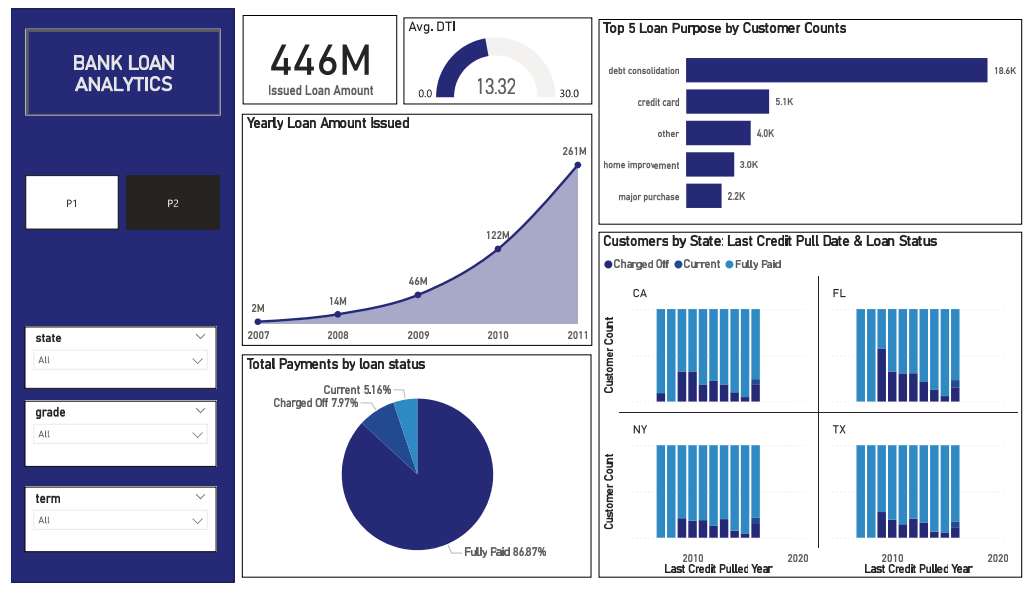

The page's visual inventory and layout, read from the dashboard file:
{"tool":"powerbi","page":{"name":"Report 2","canvas":[1280,720],"ordinal":1},"visuals":[{"type":"shape","box":[0,0,280.4,720],"z":0},{"type":"gauge","title":"Avg. DTI","fields":{"Y":["Avg(master.dti)"],"MinValue":["Min(master.dti)"],"MaxValue":["Max(master.dti)"]},"box":[493.2,10.7,236.5,109.3],"z":1000},{"type":"hundredPercentStackedColumnChart","title":"Customers by State: Last Credit Pull Date & Loan Status","fields":{"Category":["master.last credit pull date.Variation.Date Hierarchy.Year"],"Rows":["master.state"],"Series":["master.loan status"],"Y":["CountNonNull(master.loan status)"]},"box":[738.1,280.5,532.4,433.8],"z":2000},{"type":"pieChart","title":"Total Payments by loan status","fields":{"Y":["Sum(master.total payments)"],"Category":["master.loan status"]},"box":[289.6,433.8,439.6,280.4],"z":3000},{"type":"barChart","title":"Top 5 Loan Purpose by Customer Counts","fields":{"Category":["master.purpose"],"Y":["Count(master.member id)"]},"box":[738.1,13.1,532.4,257.9],"z":4000},{"type":"lineChart","title":"Yearly Loan Amount Issued","fields":{"Category":["master.issue date.Variation.Date Hierarchy.Year"],"Y":["Sum(master.loan amount)"]},"box":[290,131.9,439.7,291.2],"z":5000},{"type":"card","fields":{"Values":["Sum(master.loan amount)"]},"box":[291.2,8.3,193.7,111.7],"z":6000},{"type":"actionButton","box":[17.8,25,244.8,109.3],"z":7000},{"type":"slicer","fields":{"Values":["master.grade"]},"box":[16.6,492,241.3,83.2],"z":8000},{"type":"slicer","fields":{"Values":["master.term"]},"box":[16.6,600.2,241.3,82],"z":9000},{"type":"slicer","fields":{"Values":["master.state"]},"box":[16.6,399.3,241.3,77.3],"z":10000},{"type":"pageNavigator","box":[17.8,209.2,244.8,67.7],"z":11000}]}

Visuals, with their boxes in screenshot pixels (x1, y1, x2, y2), scaled from the page's 1280x720 canvas onto the 1036x592 screenshot:
shape: {"left": 0, "top": 0, "right": 227, "bottom": 591}
"Avg. DTI" gauge: {"left": 399, "top": 9, "right": 591, "bottom": 99}
"Customers by State: Last Credit Pull Date & Loan Status" hundredPercentStackedColumnChart: {"left": 597, "top": 231, "right": 1028, "bottom": 587}
"Total Payments by loan status" pieChart: {"left": 234, "top": 357, "right": 590, "bottom": 587}
"Top 5 Loan Purpose by Customer Counts" barChart: {"left": 597, "top": 11, "right": 1028, "bottom": 223}
"Yearly Loan Amount Issued" lineChart: {"left": 235, "top": 108, "right": 591, "bottom": 348}
card - Sum(master.loan amount): {"left": 236, "top": 7, "right": 392, "bottom": 99}
actionButton: {"left": 14, "top": 21, "right": 213, "bottom": 110}
slicer - master.grade: {"left": 13, "top": 405, "right": 209, "bottom": 473}
slicer - master.term: {"left": 13, "top": 493, "right": 209, "bottom": 561}
slicer - master.state: {"left": 13, "top": 328, "right": 209, "bottom": 392}
pageNavigator: {"left": 14, "top": 172, "right": 213, "bottom": 228}
